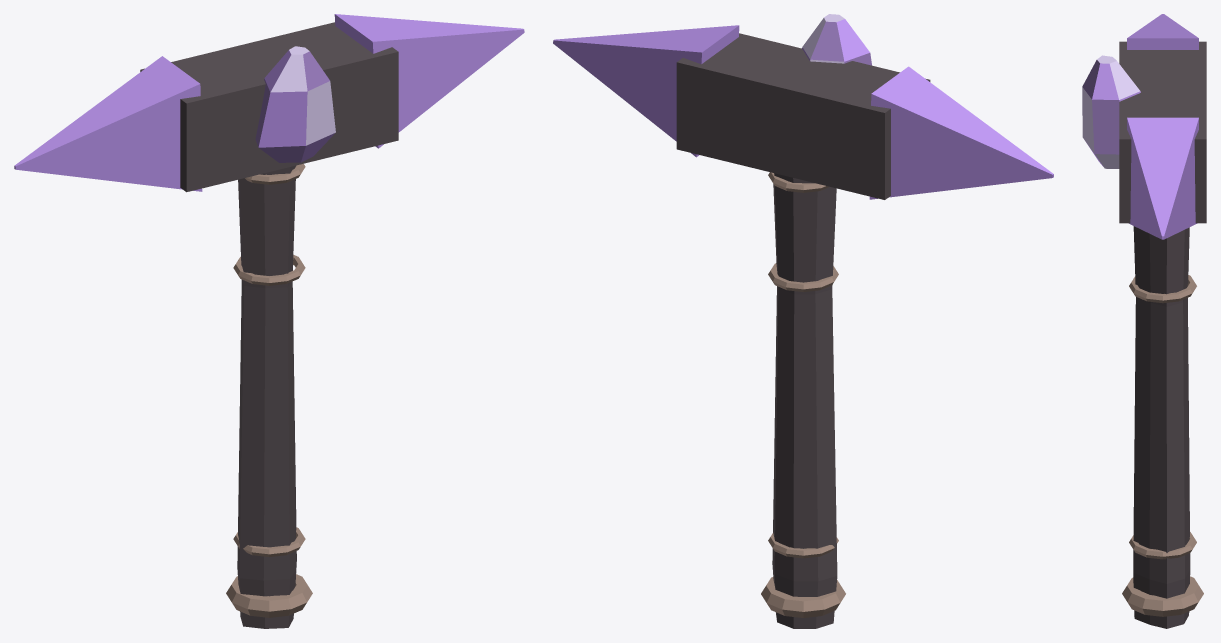
The model's file is BH_PICK_P16_Fragmento_Void_V01.glb.
3 renders of one model, left to right at view 1: azimuth 30°, elevation 25°; view 2: azimuth 150°, elevation 25°; view 3: azimuth 270°, elevation 25°, orthographic. The views are drawn at different scales.
Parts seen in each view (by area): view 1: Handle | shaped shaft.001, Head | main crossbar.001, Head | mining tooth L.001, Head | mining tooth R.001, Head | inset mineral.001, Handle | pommel.001, Handle | binding 3.001, Handle | binding 1.001; view 2: Head | main crossbar.001, Handle | shaped shaft.001, Head | mining tooth L.001, Head | mining tooth R.001, Head | inset mineral.001, Handle | pommel.001, Handle | binding 3.001; view 3: Handle | shaped shaft.001, Head | main crossbar.001, Head | mining tooth R.001, Head | inset mineral.001, Head | mining tooth L.001, Handle | pommel.001, Handle | binding 3.001, Handle | binding 1.001.
Boxes of the visible parts, box(x1,y1,x2,y2) form: Handle | shaped shaft.001: box(237, 165, 296, 628); Head | main crossbar.001: box(140, 22, 398, 192); Head | mining tooth L.001: box(14, 56, 202, 191); Head | mining tooth R.001: box(334, 14, 524, 148); Head | inset mineral.001: box(255, 46, 335, 162); Handle | pommel.001: box(226, 574, 312, 617); Handle | binding 3.001: box(233, 254, 305, 285); Handle | binding 1.001: box(233, 527, 305, 556); Head | main crossbar.001: box(676, 33, 930, 199); Handle | shaped shaft.001: box(772, 173, 837, 628); Head | mining tooth L.001: box(869, 66, 1053, 199); Head | mining tooth R.001: box(553, 25, 739, 157); Head | inset mineral.001: box(802, 14, 871, 65); Handle | pommel.001: box(761, 577, 845, 617); Handle | binding 3.001: box(768, 263, 838, 291); Handle | shaped shaft.001: box(1133, 226, 1190, 628); Head | main crossbar.001: box(1119, 41, 1206, 223); Head | mining tooth R.001: box(1127, 117, 1198, 239); Head | inset mineral.001: box(1082, 55, 1140, 168); Head | mining tooth L.001: box(1127, 14, 1198, 49); Handle | pommel.001: box(1122, 576, 1203, 616); Handle | binding 3.001: box(1129, 275, 1196, 303); Handle | binding 1.001: box(1129, 532, 1196, 559).
Bounding box in the file's own units: 2.16 × 2.39 × 0.4843.
